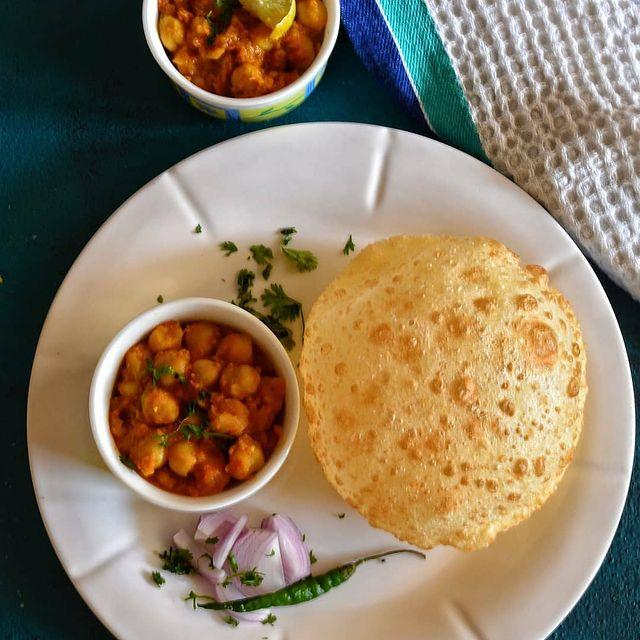Chole: (114, 314, 276, 492)
